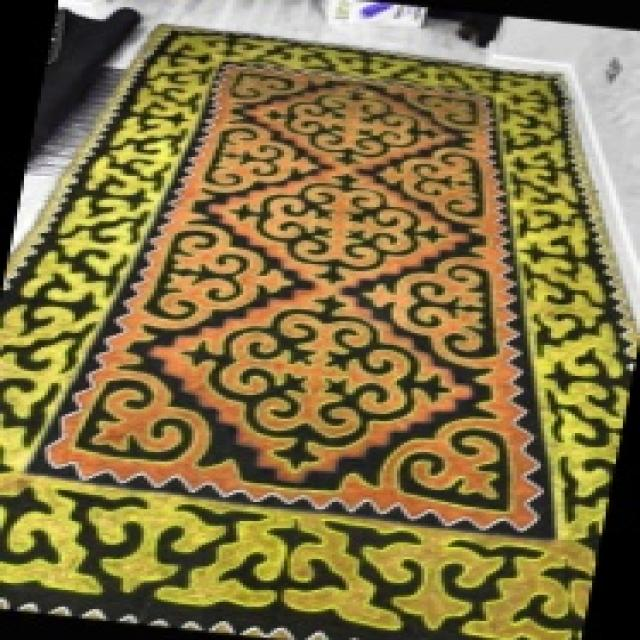Unity: (173, 285, 461, 477), (219, 170, 456, 294), (261, 86, 444, 166)
